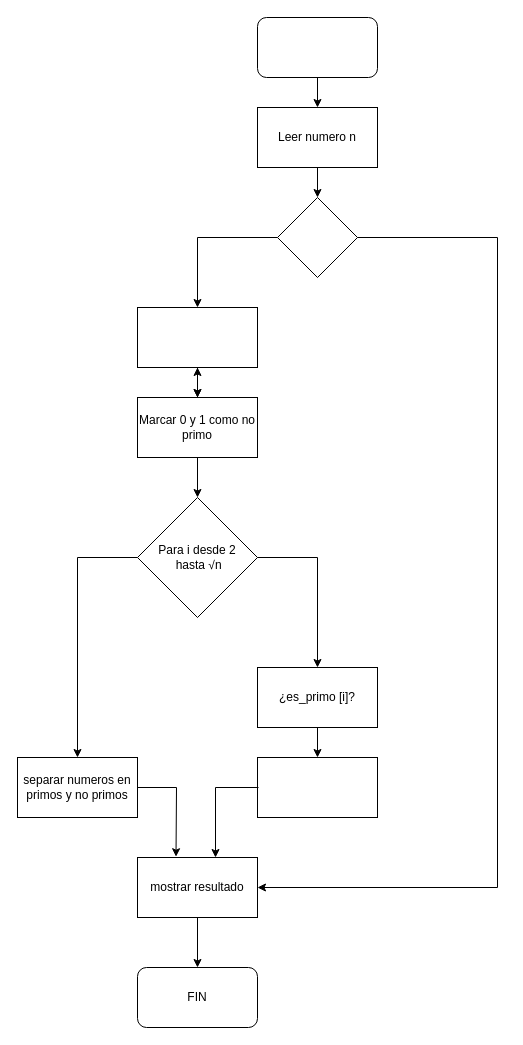
Image size: 523x1045. Some labels were removed from this diagram. Here are the shapes that lost their labels. From the top down, the centre of each, then its label:
At [317,47]: "INICIO".
At [317,237]: "¿n<2?".
At [197,337]: "Inicializar lista es_primo con true".
At [317,787]: "marcar multiplos de como no primos".
